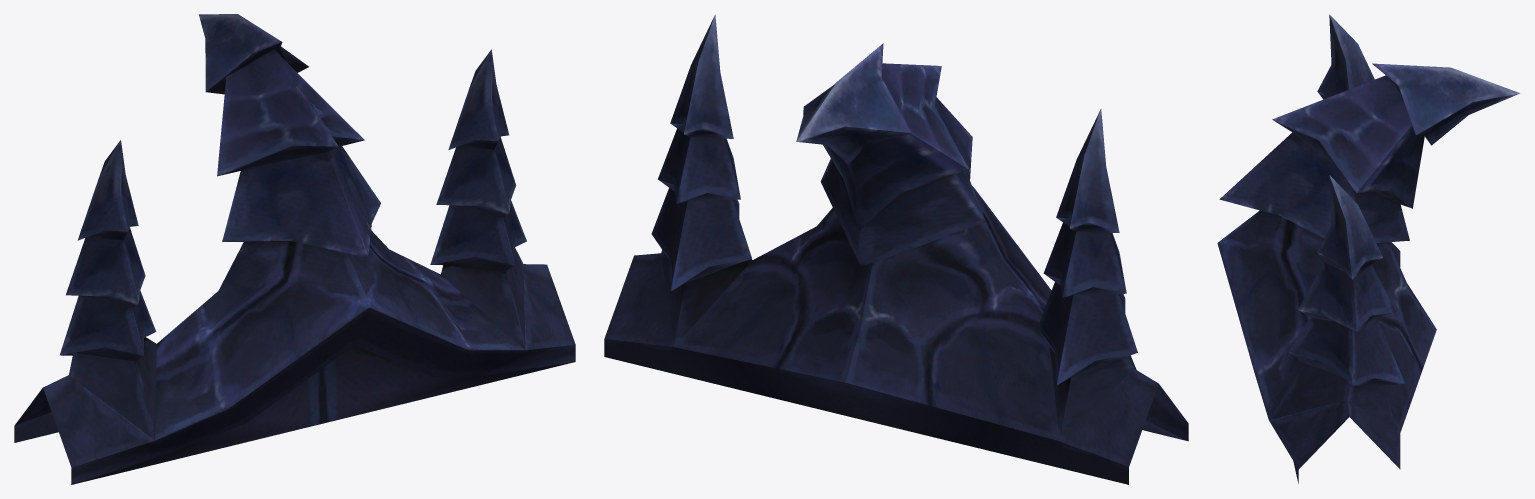
File: palace_rail_straight_01.fbx
The picture shows the model from 3 angles, left to right: view 1: azimuth 30°, elevation 25°; view 2: azimuth 150°, elevation 25°; view 3: azimuth 270°, elevation 25°; orthographic projection. The views are drawn at different scales.
Visible parts, largest first — view 1: palace_tileset/palace_railing01_mat; view 2: palace_tileset/palace_railing01_mat; view 3: palace_tileset/palace_railing01_mat.
Part boxes in pixels (<box>): palace_tileset/palace_railing01_mat: <box>14,14,575,484</box>; palace_tileset/palace_railing01_mat: <box>604,14,1188,484</box>; palace_tileset/palace_railing01_mat: <box>1217,14,1519,483</box>.
Size of the model in its own units: 4 by 2.66 by 2.34.
